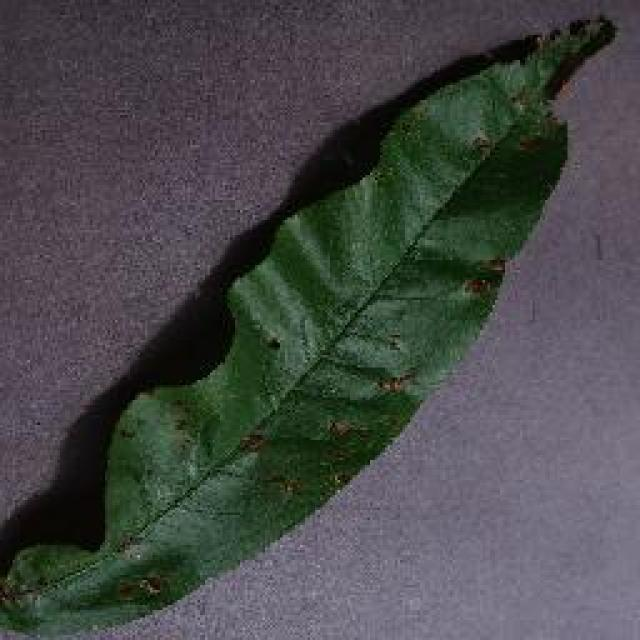Peach_Bacterial_Spot: (225, 198, 452, 455)
